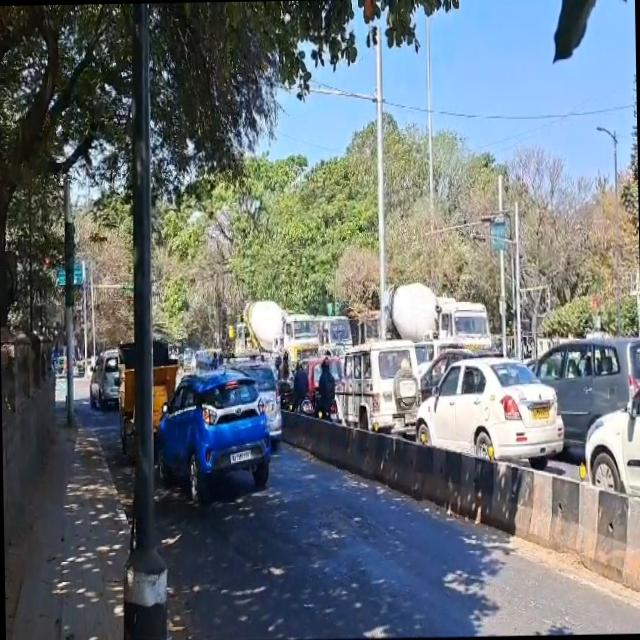cars: (416, 358, 566, 481), (157, 370, 272, 505), (527, 339, 640, 456), (335, 339, 422, 444)
